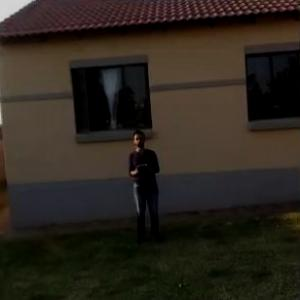follow: (126, 124, 168, 249)
